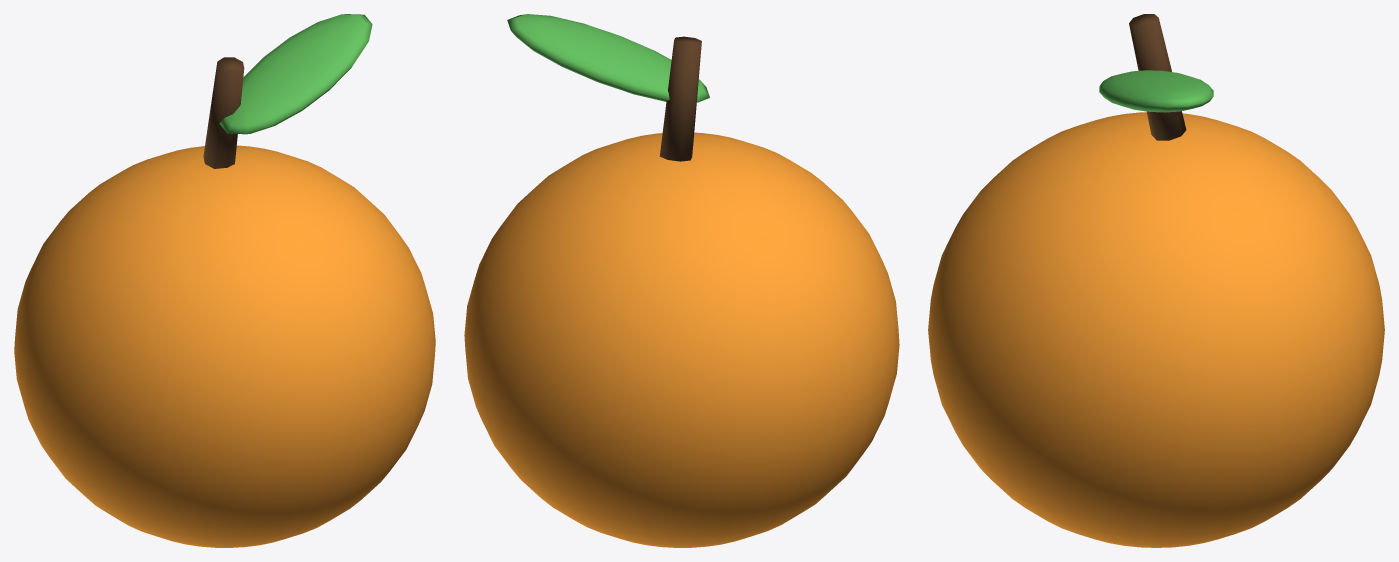
The model's file is fruit_orange.glb.
The picture shows the model from 3 angles, left to right: view 1: azimuth 30°, elevation 25°; view 2: azimuth 150°, elevation 25°; view 3: azimuth 270°, elevation 25°; orthographic projection. The views are drawn at different scales.
Visible parts, largest first — view 1: fruit_orange; view 2: fruit_orange; view 3: fruit_orange.
Part boxes in pixels (left/top/right/bottom): fruit_orange: left=14, top=14, right=435, bottom=547; fruit_orange: left=464, top=14, right=899, bottom=547; fruit_orange: left=928, top=14, right=1384, bottom=547.
Bounding box in the file's own units: 0.36 × 0.4414 × 0.36.
